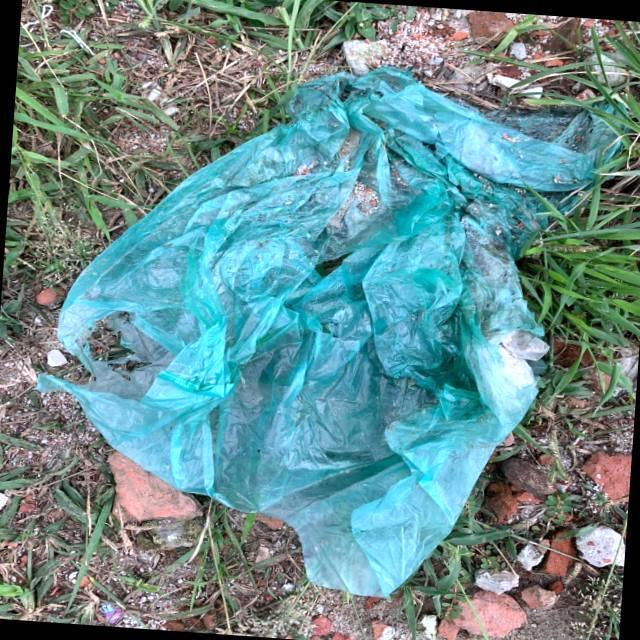polythene: (75, 51, 590, 560)
